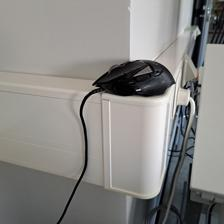mouse: (90, 58, 176, 98)
